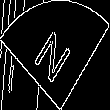N_SW: (32, 22, 78, 88)
